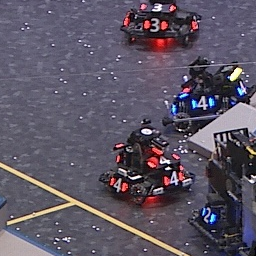Blue: (191, 96, 216, 110), (200, 207, 215, 224), (235, 81, 247, 95)
Red: (146, 153, 182, 167), (140, 3, 175, 14), (143, 17, 168, 32), (161, 171, 185, 186), (108, 176, 129, 193)
Robot: (99, 119, 195, 204), (200, 128, 256, 256), (159, 56, 256, 129), (119, 1, 202, 47)
